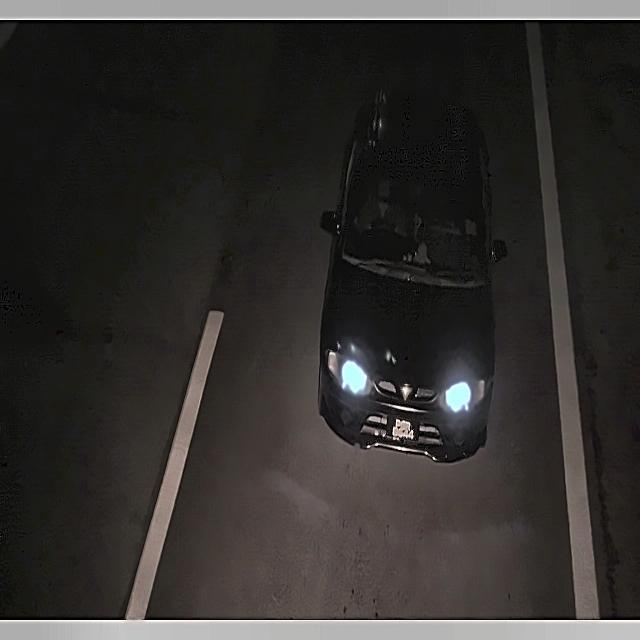car: (386, 411, 419, 446)
